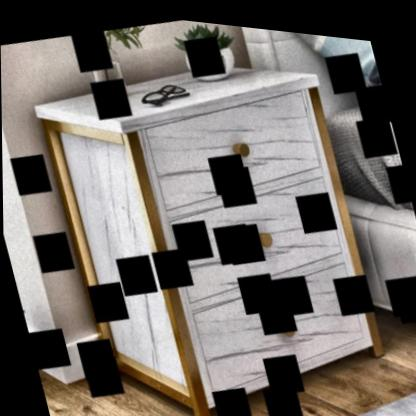Nightstand: (36, 34, 388, 416)
